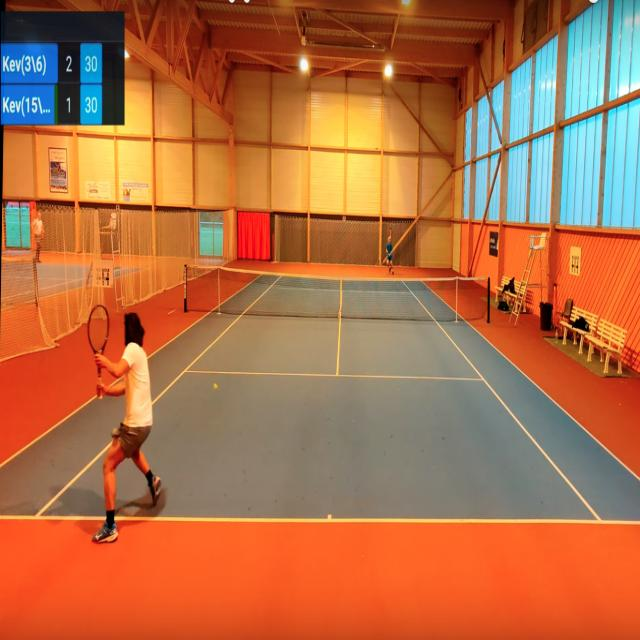ball: (213, 382, 219, 391)
